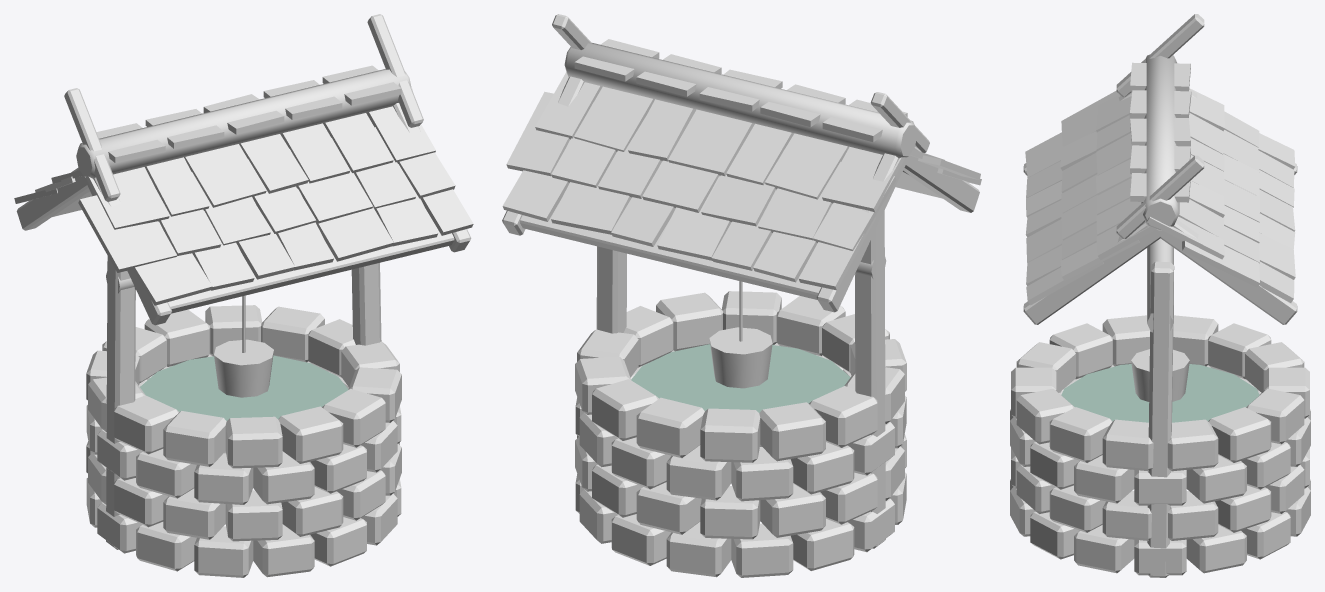
Rendered from Well.fbx.
The picture shows the model from 3 angles, left to right: view 1: azimuth 30°, elevation 25°; view 2: azimuth 150°, elevation 25°; view 3: azimuth 270°, elevation 25°; orthographic projection. The views are drawn at different scales.
Parts seen in each view (by area): view 1: Well__stone, Well__wood_dark, Well__shingle_b, Well__shingle_c, Well__stone_moss, Well__shingle_a, Well__glass, Well__wood_b, Well__moss; view 2: Well__stone, Well__wood_dark, Well__shingle_c, Well__stone_moss, Well__shingle_a, Well__shingle_b, Well__glass, Well__moss, Well__wood_b; view 3: Well__stone, Well__wood_dark, Well__shingle_c, Well__stone_moss, Well__shingle_b, Well__shingle_a, Well__glass, Well__moss, Well__wood_b, Well__wood_c.
Part boxes in pixels (x1,y1,x2,y2): Well__stone: (86,306,401,577); Well__wood_dark: (16,14,471,549); Well__shingle_b: (14,109,415,305); Well__shingle_c: (78,65,455,290); Well__stone_moss: (86,305,401,566); Well__shingle_a: (35,80,473,246); Well__glass: (140,355,348,420); Well__wood_b: (214,339,273,397); Well__moss: (315,207,393,261); Well__stone: (575,292,906,577); Well__wood_dark: (502,14,979,548); Well__shingle_c: (502,39,980,270); Well__stone_moss: (579,291,906,570); Well__shingle_a: (551,54,907,250); Well__shingle_b: (598,84,981,290); Well__glass: (631,344,850,412); Well__moss: (611,162,832,282); Well__wood_b: (709,327,772,388); Well__stone: (1010,315,1310,575); Well__wood_dark: (1023,14,1297,577); Well__shingle_c: (1026,90,1295,302); Well__stone_moss: (1010,315,1304,536); Well__shingle_b: (1025,88,1295,259); Well__shingle_a: (1026,62,1259,305); Well__glass: (1061,364,1259,422); Well__moss: (1026,150,1295,262); Well__wood_b: (1131,349,1189,401); Well__wood_c: (1147,238,1173,332).
Size of the model in its own units: 8.58 by 10.47 by 6.65.
